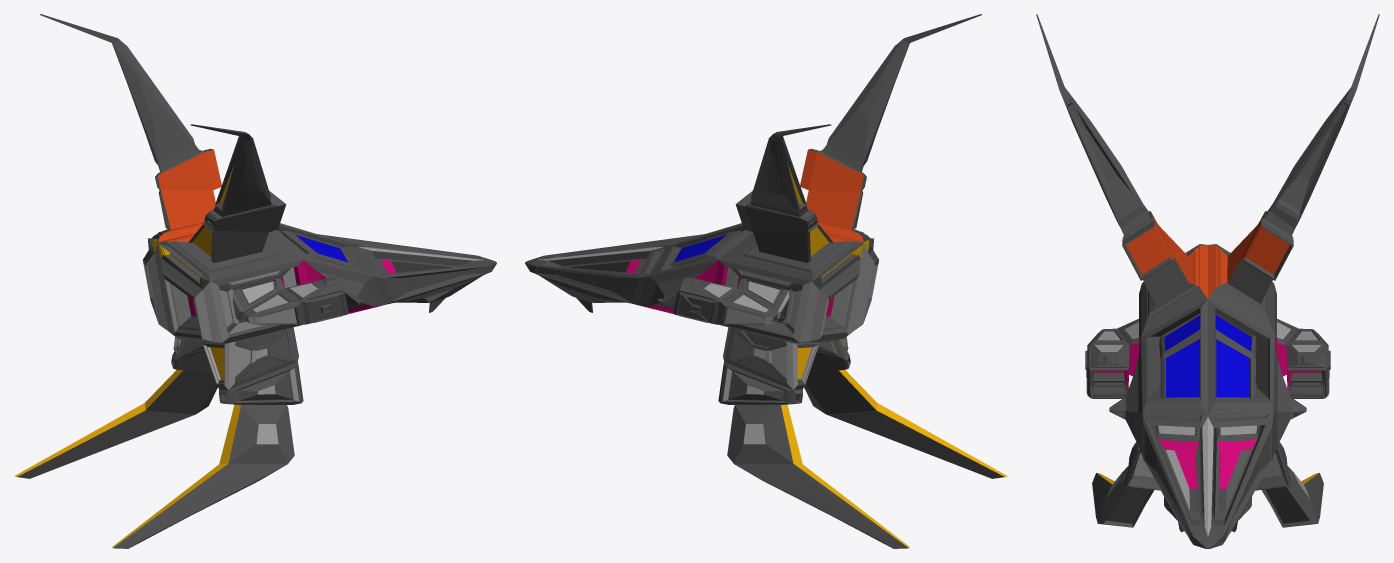
Rendered from season-001-Space-Ship.fbx.
The picture shows the model from 3 angles, left to right: view 1: azimuth 30°, elevation 25°; view 2: azimuth 150°, elevation 25°; view 3: azimuth 270°, elevation 25°; orthographic projection. The views are drawn at different scales.
Visible parts, largest first — view 1: Season-1-Spaceship; view 2: Season-1-Spaceship; view 3: Season-1-Spaceship.
Boxes of the visible parts, x1,y1,x2,y2 form: Season-1-Spaceship: (14, 14, 496, 548); Season-1-Spaceship: (525, 14, 1007, 548); Season-1-Spaceship: (1036, 14, 1379, 548).
Size of the model in its own units: 817 by 784 by 495.
